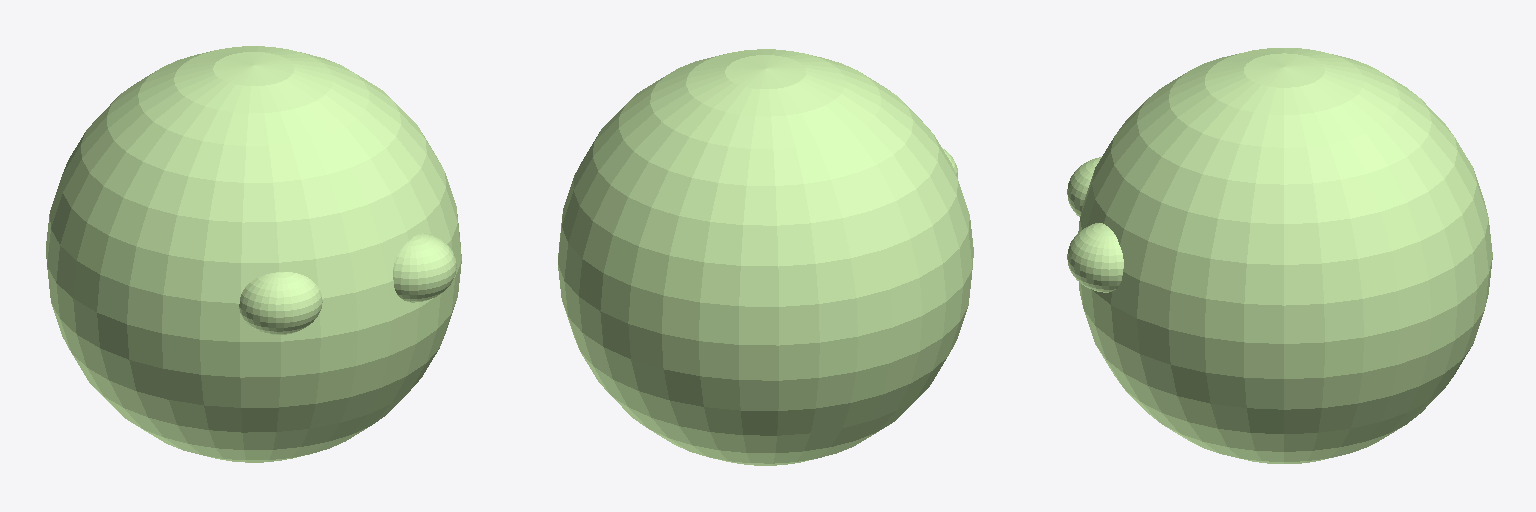
3 views of the same model, side by side, from view 1: azimuth 30°, elevation 25°; view 2: azimuth 150°, elevation 25°; view 3: azimuth 270°, elevation 25° (orthographic).
Parts seen in each view (by area): view 1: 球.002; view 2: 球.002; view 3: 球.002.
Boxes of the visible parts, <box> form: 球.002: <box>46,46,461,462</box>; 球.002: <box>558,49,973,465</box>; 球.002: <box>1067,48,1492,463</box>.
Bounding box in the file's own units: 0.8837 × 0.8837 × 0.9021.
Materials: 1 (1 with a texture image).